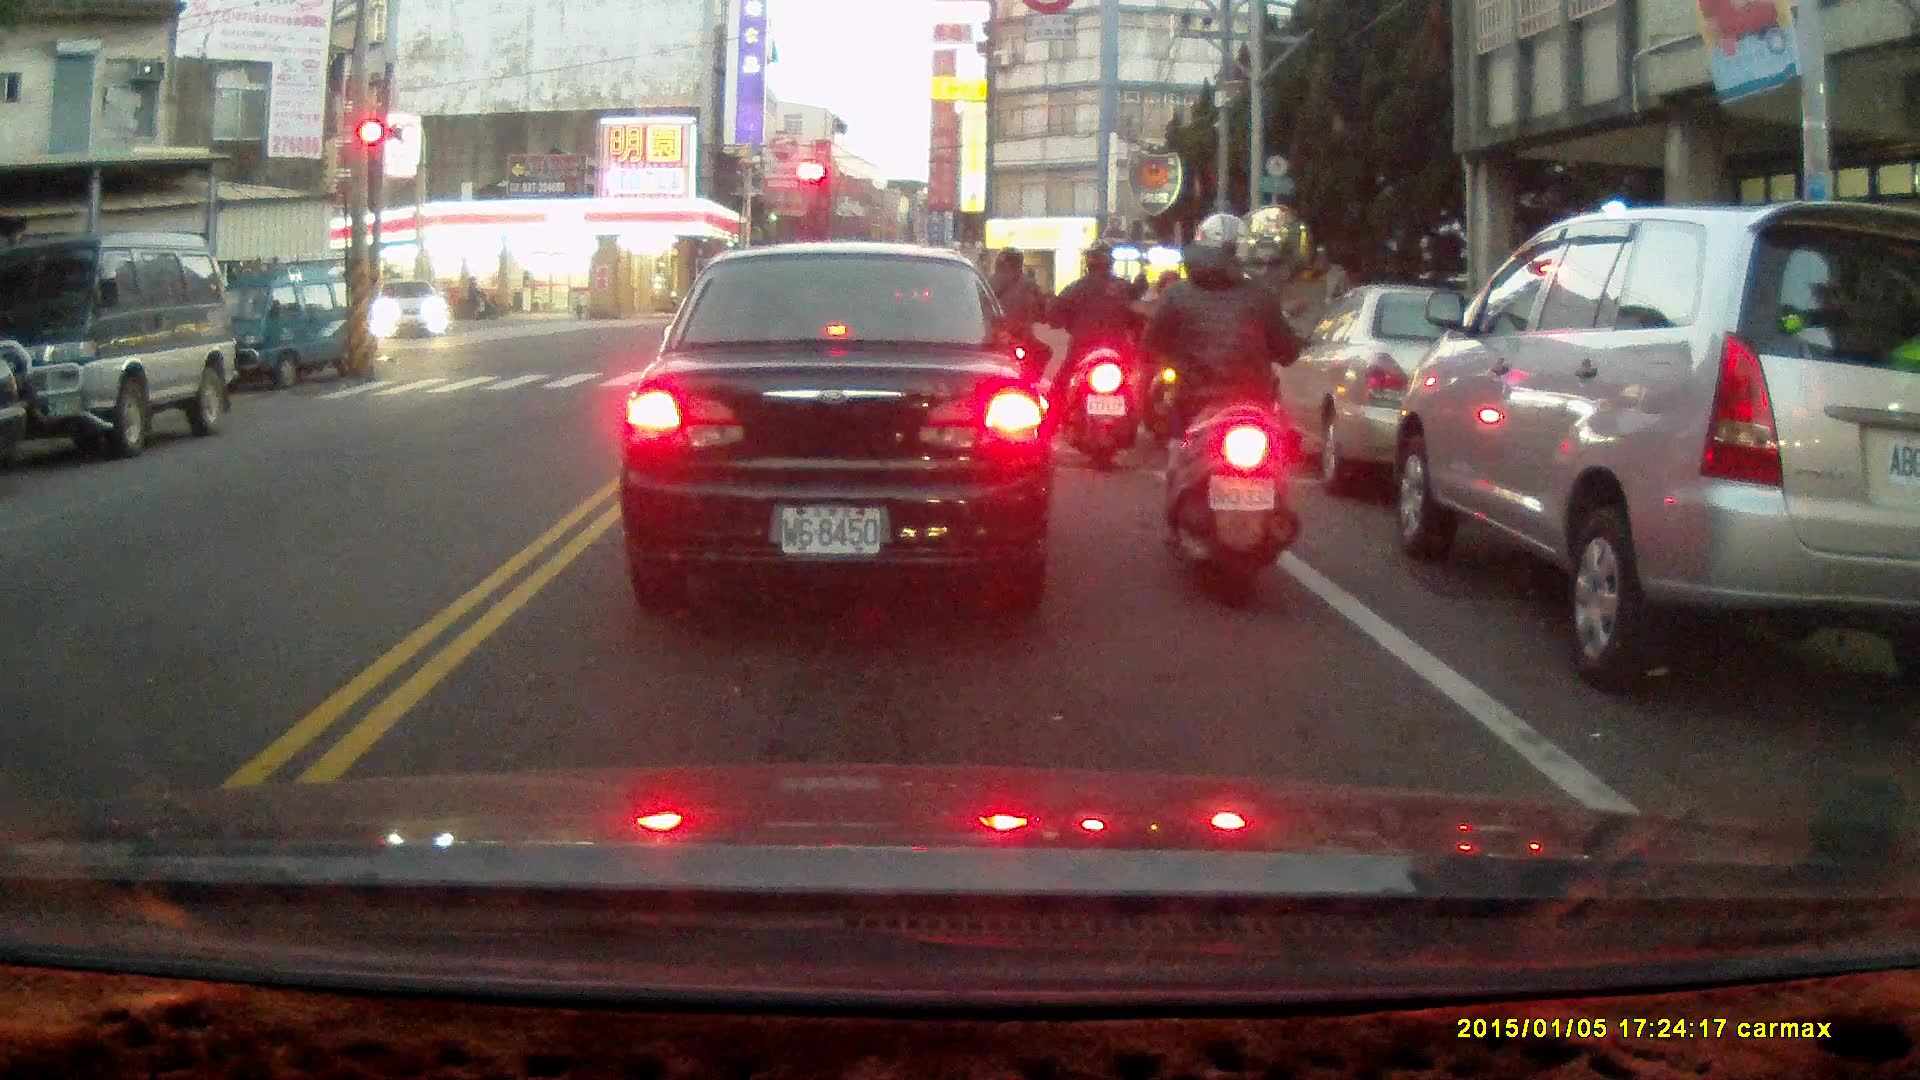rider: (1104, 209, 1312, 613), (1048, 242, 1141, 468), (962, 246, 1053, 430), (1135, 270, 1205, 451), (443, 277, 486, 316)
vehicle: (1386, 214, 1912, 699), (622, 244, 1059, 605), (1253, 282, 1589, 492), (1, 234, 239, 457), (188, 261, 377, 393), (372, 277, 451, 343)
